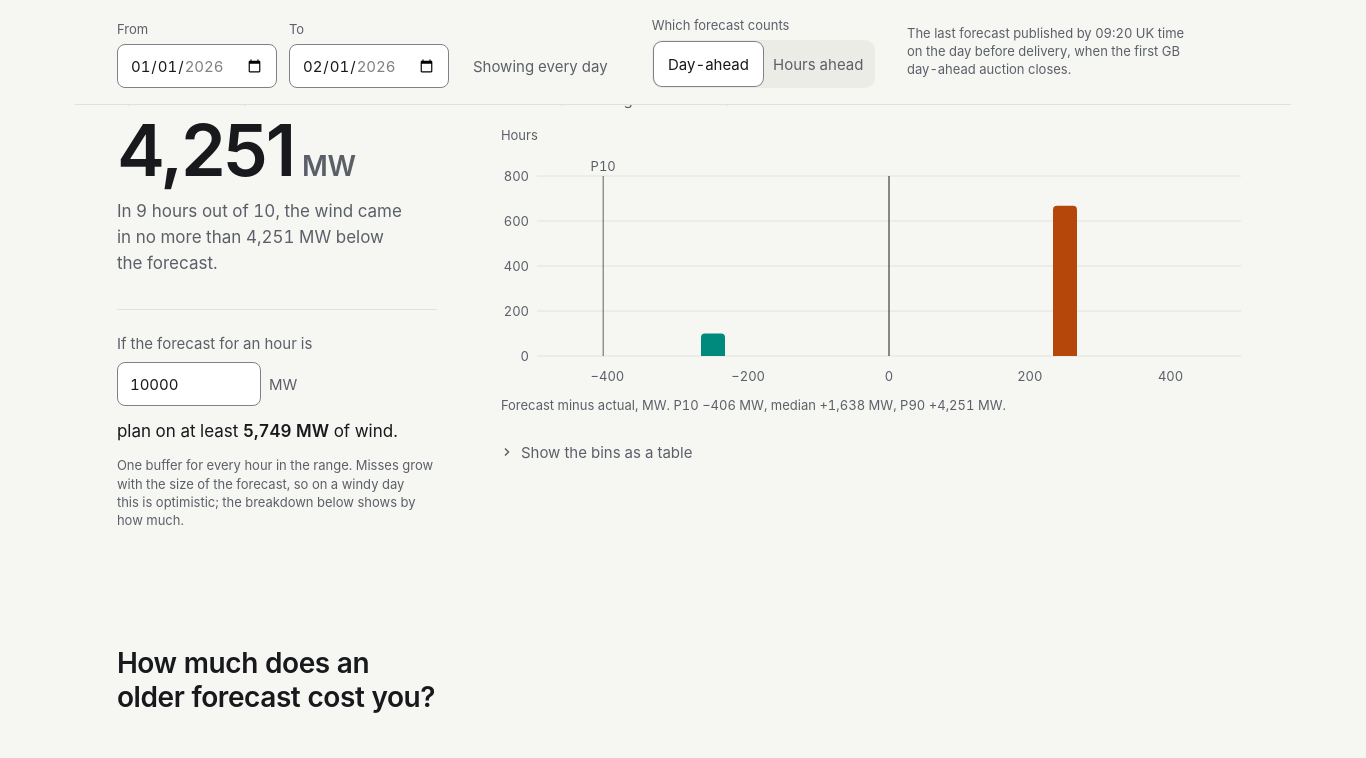
Test: turns P90 into the wind to plan on, for any forecast you type
(page scrolled)
Expected: the text "4,251" is shown, [117,106,294,193]
Expected: the text "5,749 MW" is shown, [243,421,329,441]
Replace the text in the number field labelled "If the forecast for an hour is" with "20000": (189, 384) [117,362,261,406]
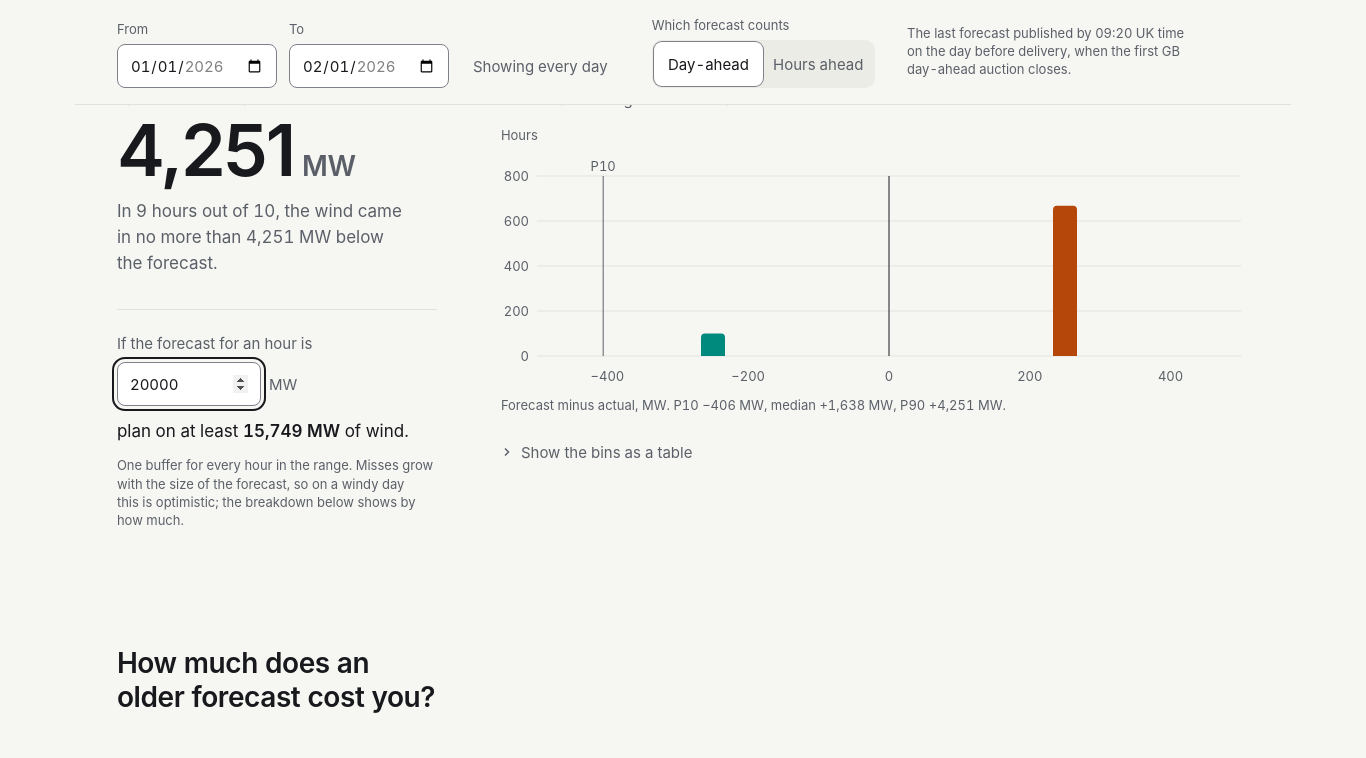
Now the text "15,749 MW" is shown, box [243,421,340,441]
